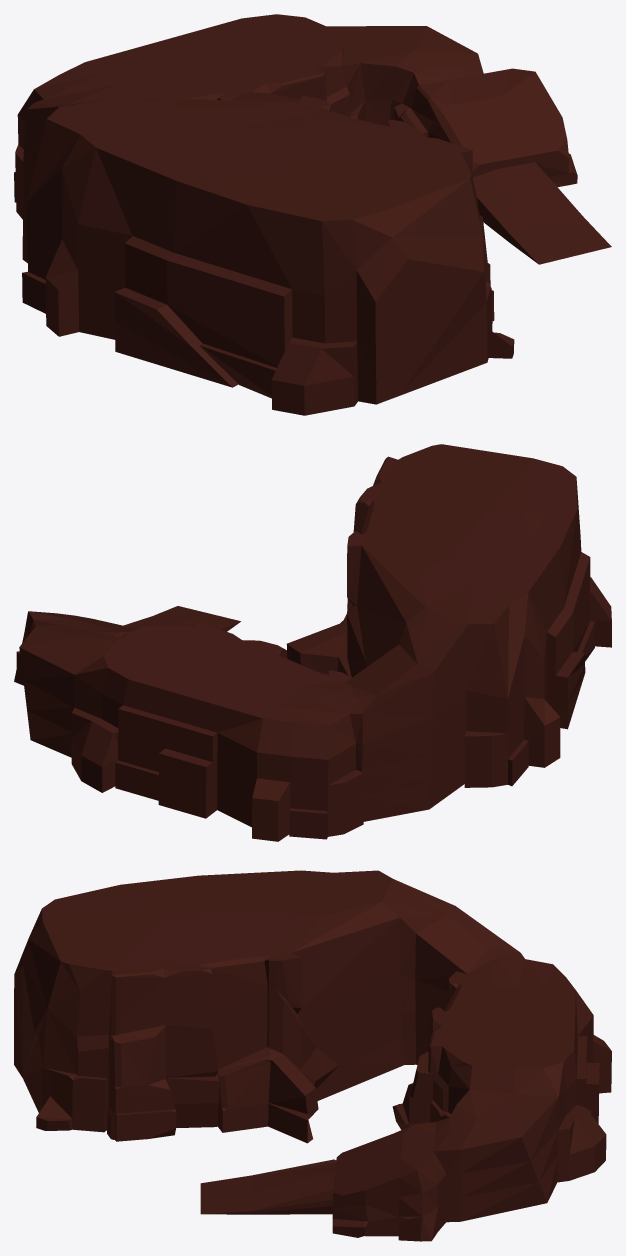
The model's file is skala_mala_1.obj.
3 views of the same model, one above another, from view 1: azimuth 30°, elevation 25°; view 2: azimuth 150°, elevation 25°; view 3: azimuth 270°, elevation 25° (orthographic). The views are drawn at different scales.
Parts seen in each view (by area): view 1: Cube.010; view 2: Cube.010; view 3: Cube.010.
Part boxes in pixels (left/top/right/bottom): Cube.010: left=14, top=14, right=611, bottom=415; Cube.010: left=14, top=444, right=611, bottom=841; Cube.010: left=14, top=870, right=611, bottom=1241.
Bounding box in the file's own units: 13.38 × 4.58 × 14.28.
